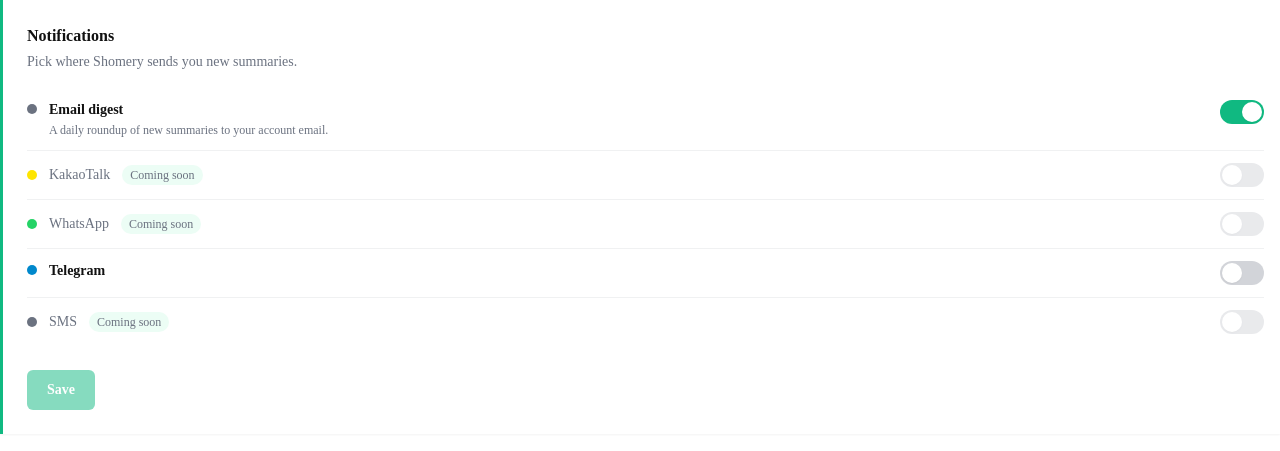
Test: NotificationsEditor › toggles the Email digest switch and persists the change
Click the switch named "Disable Email digest": {"x": 1242, "y": 112} 1220,100 -> 1264,124
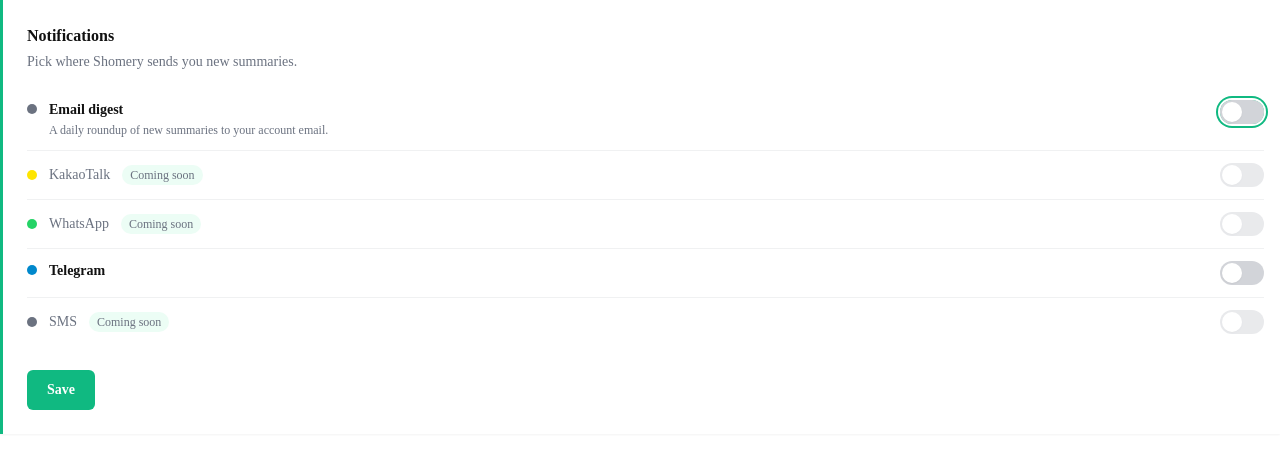
Click the button "Save": {"x": 61, "y": 390} 27,370 -> 95,410
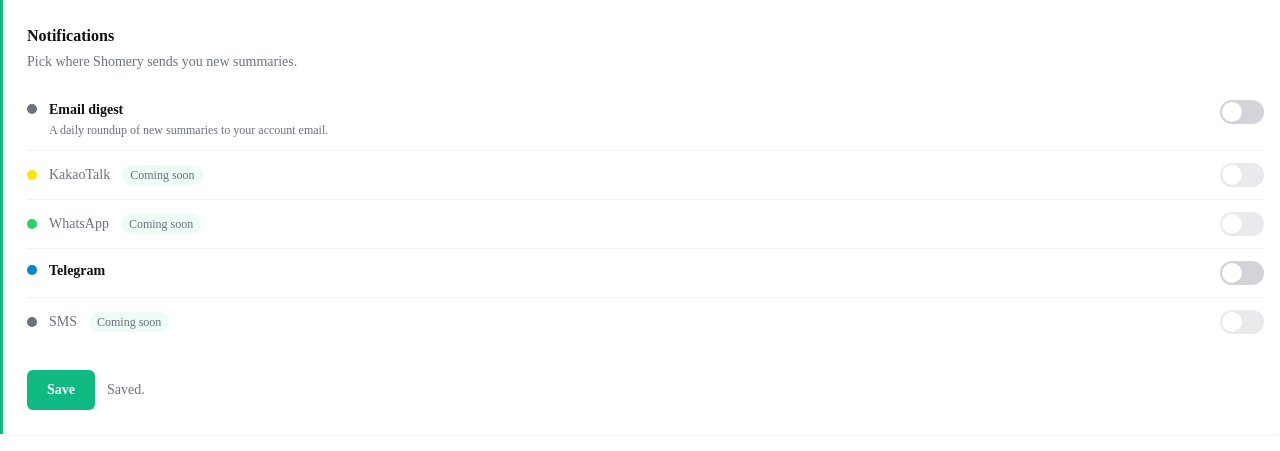
Now the text "Saved." is shown, box 107,380 -> 145,400
